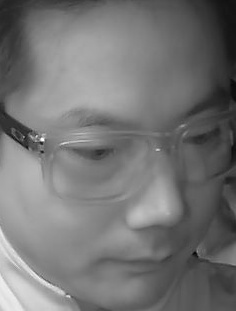glass: (44, 129, 149, 202), (170, 106, 236, 182)
mouth: (98, 238, 187, 286)
